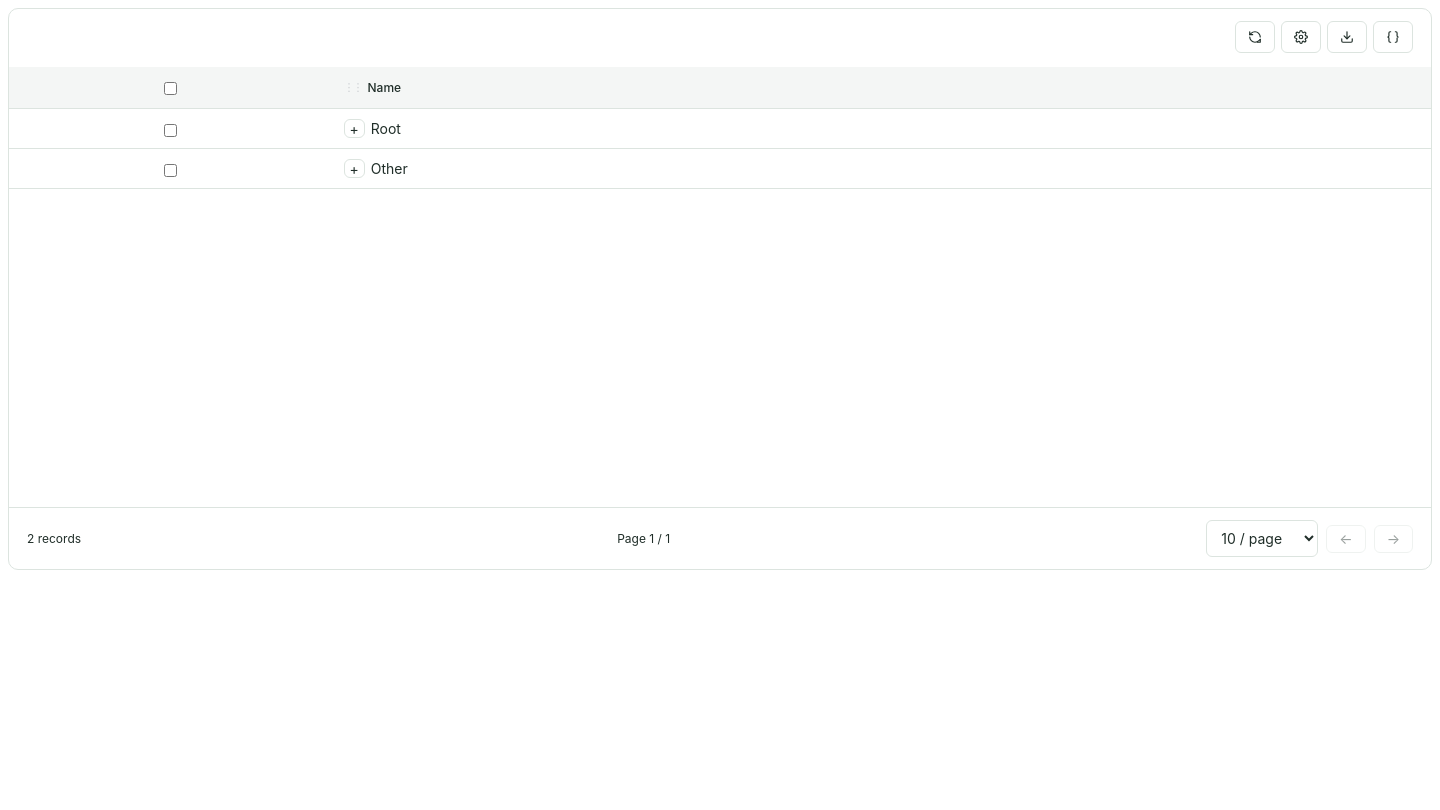
Scenario: repro: virtual + tree + renderExpanded
The image size is (1440, 810).
Click the button named "Expand row 1" at (354, 128), box 344,119 -> 365,138
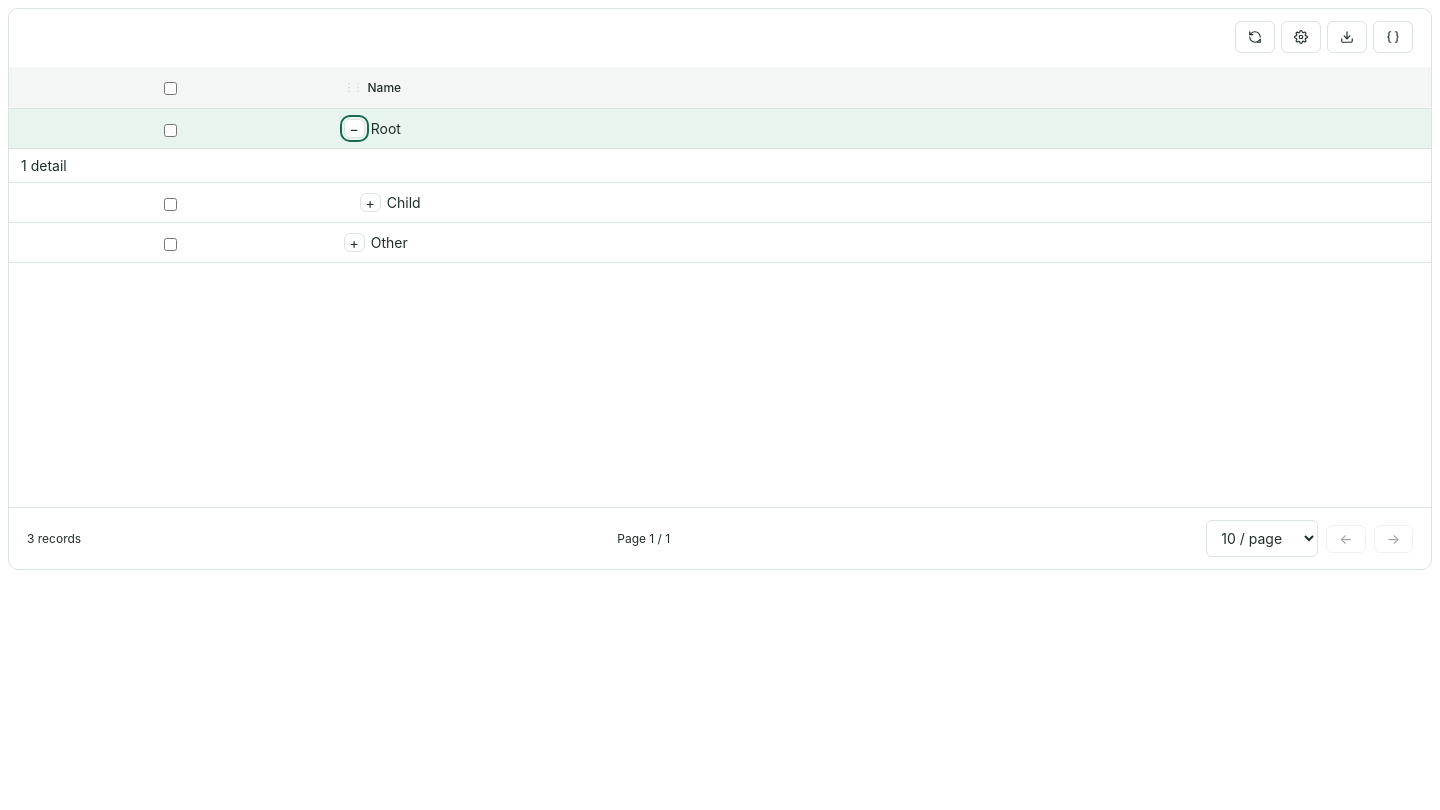
Now the text "1 detail" is shown, box 21,157 -> 67,174
